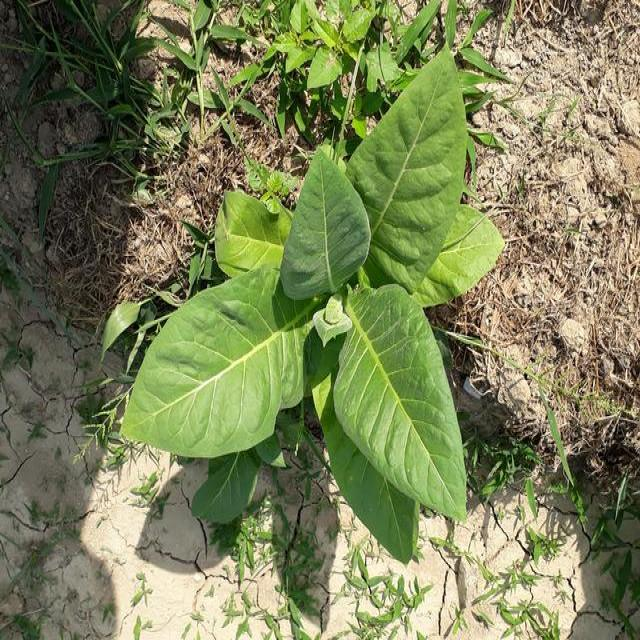crop: (122, 69, 520, 550)
